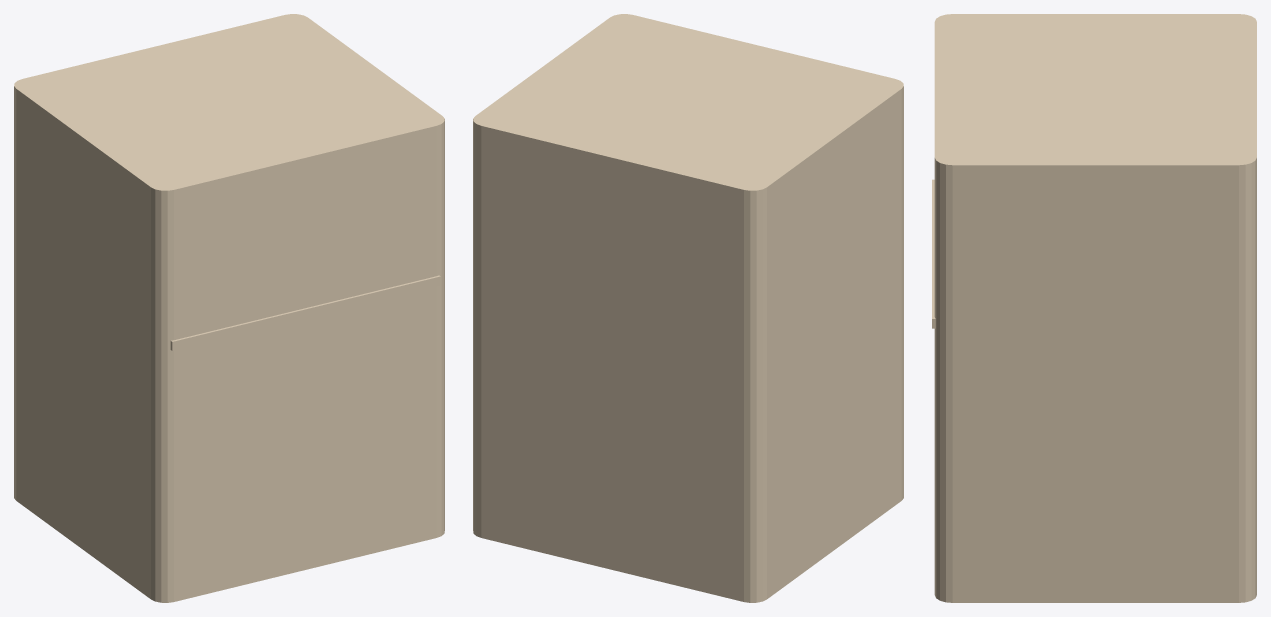
File: post-bedside-table-oak.glb
3 renders of one model, left to right at view 1: azimuth 30°, elevation 25°; view 2: azimuth 150°, elevation 25°; view 3: azimuth 270°, elevation 25°, orthographic. The views are drawn at different scales.
Visible parts, largest first — view 1: geometry_0; view 2: geometry_0; view 3: geometry_0.
Boxes of the visible parts, <box> form: geometry_0: <box>14,14,444,602</box>; geometry_0: <box>473,14,903,602</box>; geometry_0: <box>932,14,1256,602</box>.
Bounding box in the file's own units: 0.4 × 0.55 × 0.363.
